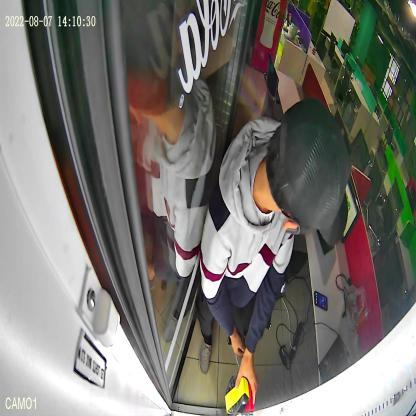red: (243, 380, 254, 416)
yellow: (225, 374, 250, 415)
